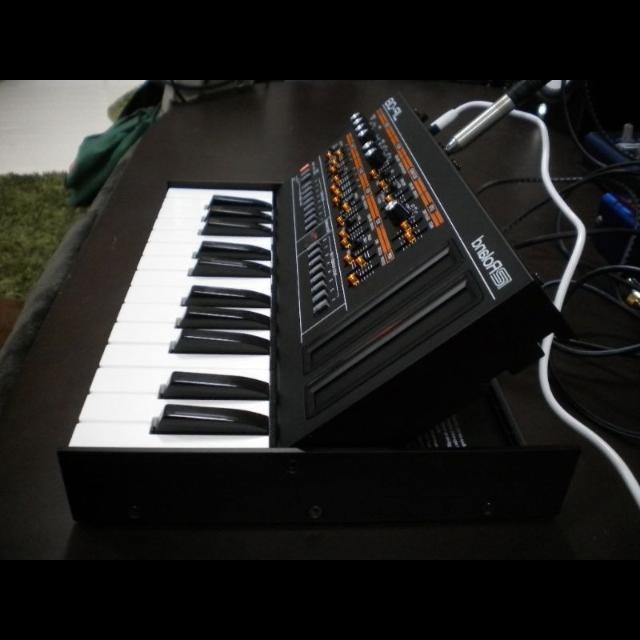Electronic-Keyboard: (56, 112, 534, 504)
